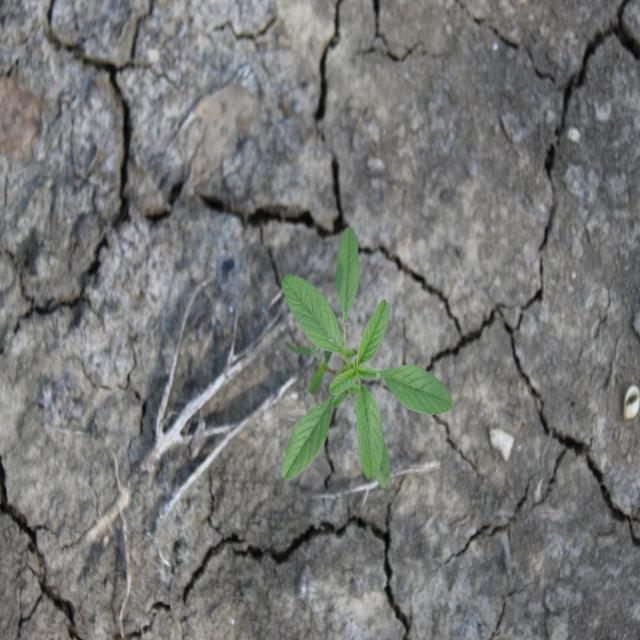Waterhemp: (279, 225, 454, 492)
